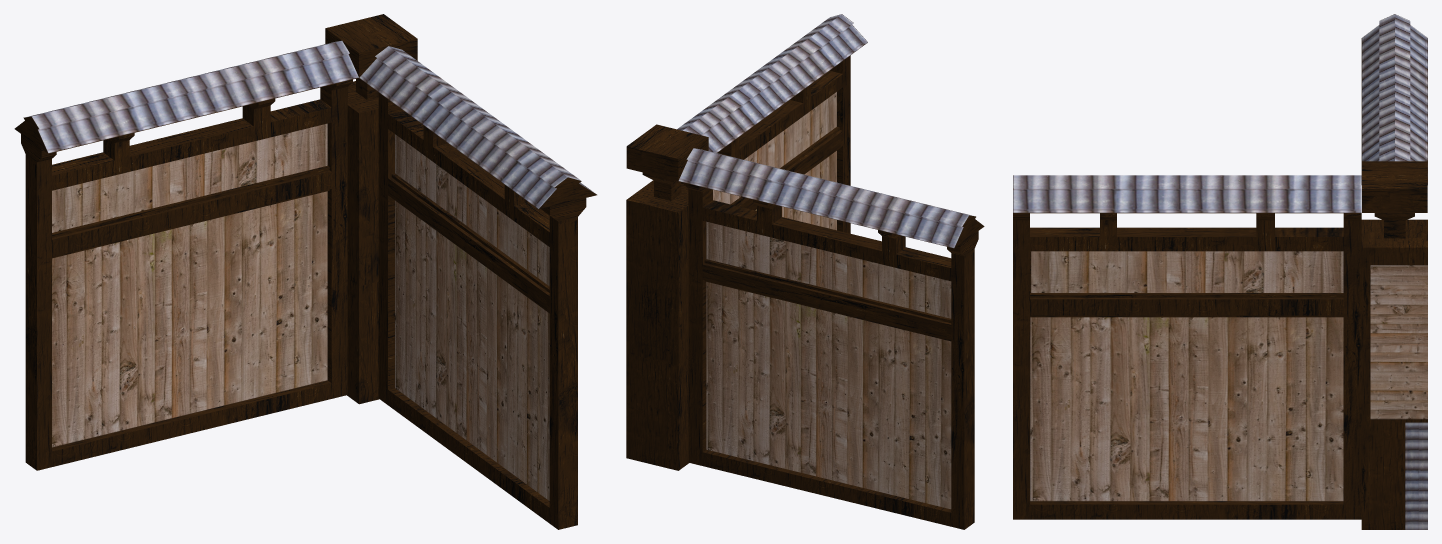
File: NNJ0510051.fbx
The picture shows the model from 3 angles, left to right: view 1: azimuth 30°, elevation 25°; view 2: azimuth 150°, elevation 25°; view 3: azimuth 270°, elevation 25°; orthographic projection. The views are drawn at different scales.
Parts seen in each view (by area): view 1: smNNJ0510051; view 2: smNNJ0510051; view 3: smNNJ0510051.
Boxes of the visible parts, bbox=[...] form: smNNJ0510051: bbox=[14, 14, 596, 529]; smNNJ0510051: bbox=[626, 14, 984, 529]; smNNJ0510051: bbox=[1013, 14, 1427, 529].
Size of the model in its own units: 430 by 390 by 430.
1 material, 1 textured.
